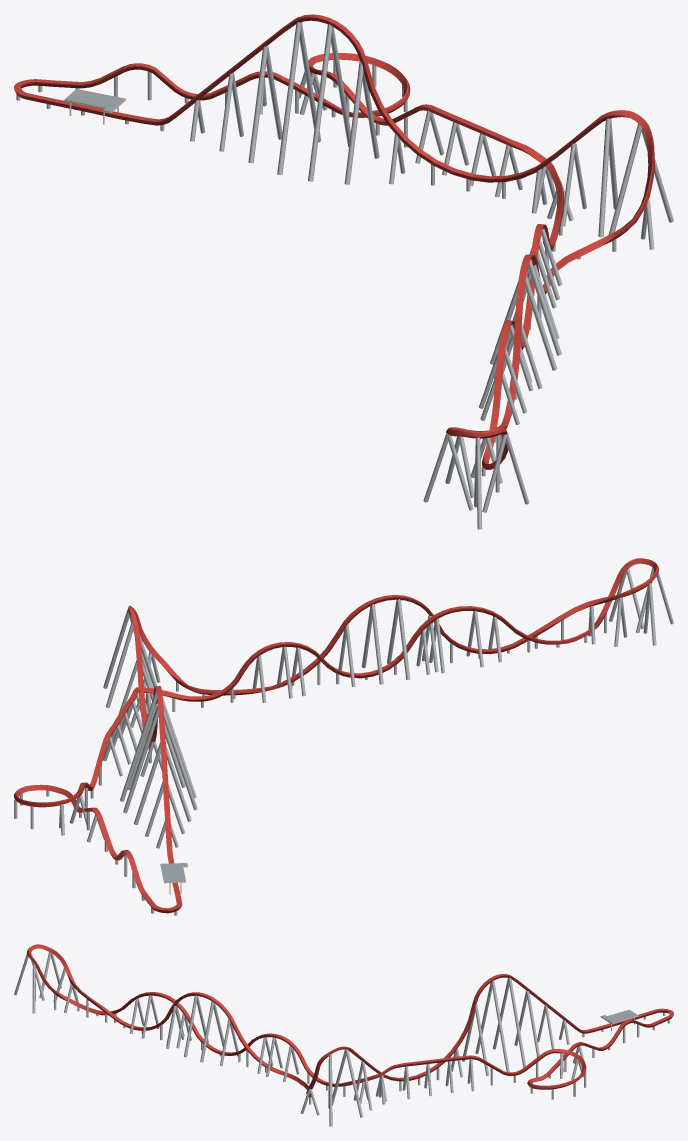
The model's file is carowinds-thunder-striker.glb.
3 views of the same model, one above another, from view 1: azimuth 30°, elevation 25°; view 2: azimuth 150°, elevation 25°; view 3: azimuth 270°, elevation 25° (orthographic). The views are drawn at different scales.
Visible parts, largest first — view 1: Thunder Striker; view 2: Thunder Striker; view 3: Thunder Striker.
Boxes of the visible parts, x1,y1,x2,y2 form: Thunder Striker: [14, 14, 673, 529]; Thunder Striker: [14, 558, 673, 915]; Thunder Striker: [14, 944, 673, 1126].
Bounding box in the file's own units: 248 × 76.89 × 502.
